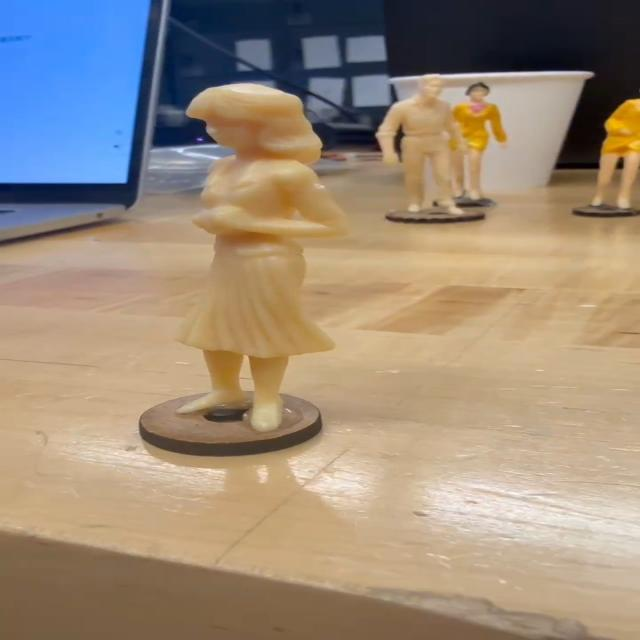Unauthorized: (169, 71, 325, 431)
